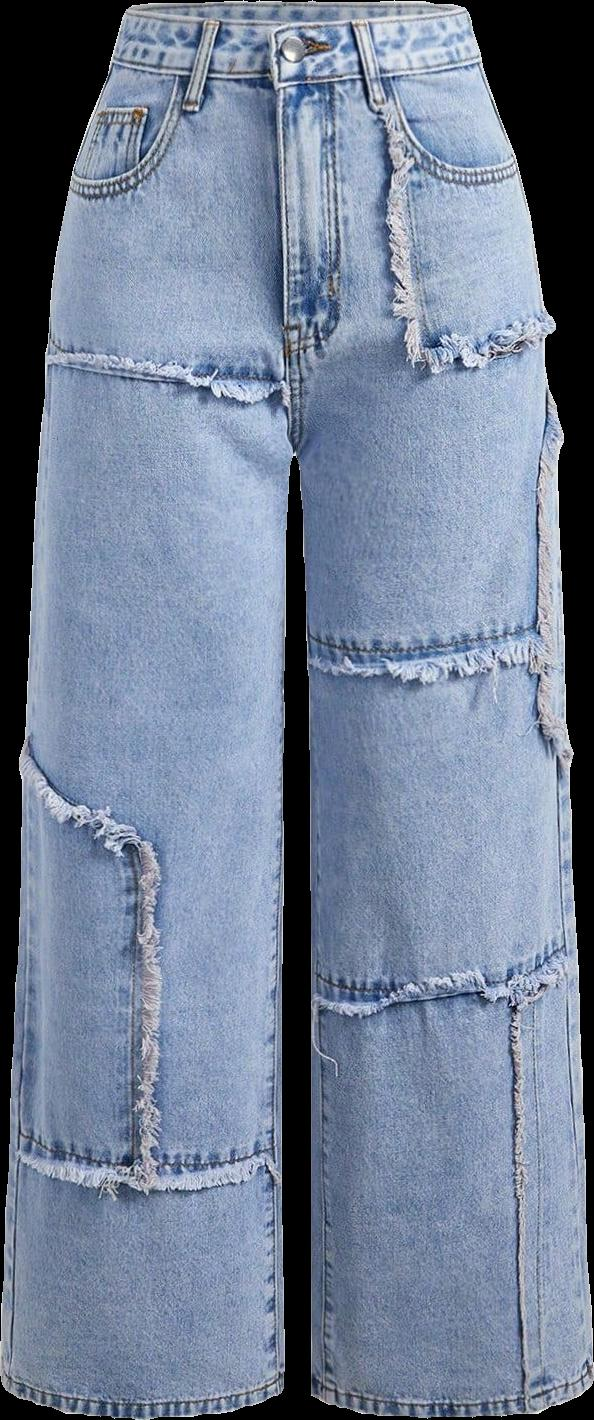Hemline: (310, 1369, 593, 1418), (0, 1374, 285, 1419)
Pantleg: (263, 2, 593, 1416), (0, 3, 292, 1415)
Waistline: (23, 749, 152, 1191), (371, 76, 553, 366), (312, 941, 579, 1011), (104, 48, 482, 92), (509, 974, 546, 1416), (4, 1140, 283, 1191), (44, 339, 292, 393), (307, 626, 567, 667), (120, 0, 470, 28)
